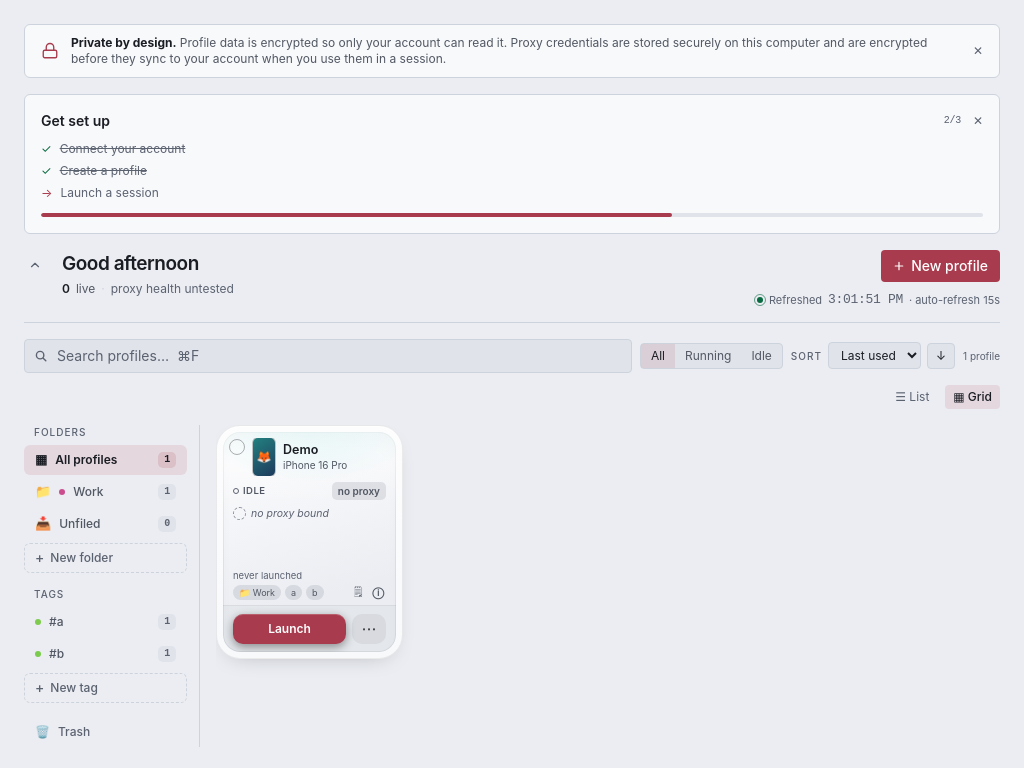
Scenario: ProfilesView profile-lifecycle actions › Storage + Trim › surfaces an informative (non-error) notice when there is nothing to trim (status unavailable)
Click the button named "More actions": (369, 628) [352,614,386,644]
(page scrolled)
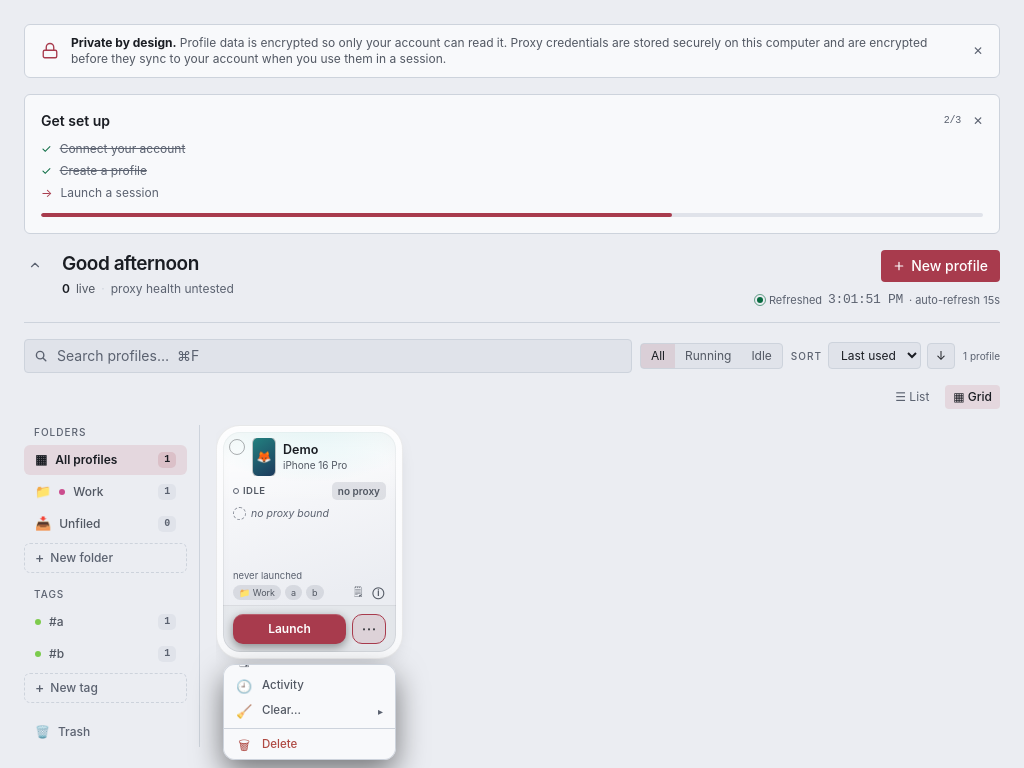
Click the button with aria-label "Clearing options for ": (310, 711) [224,698,395,724]
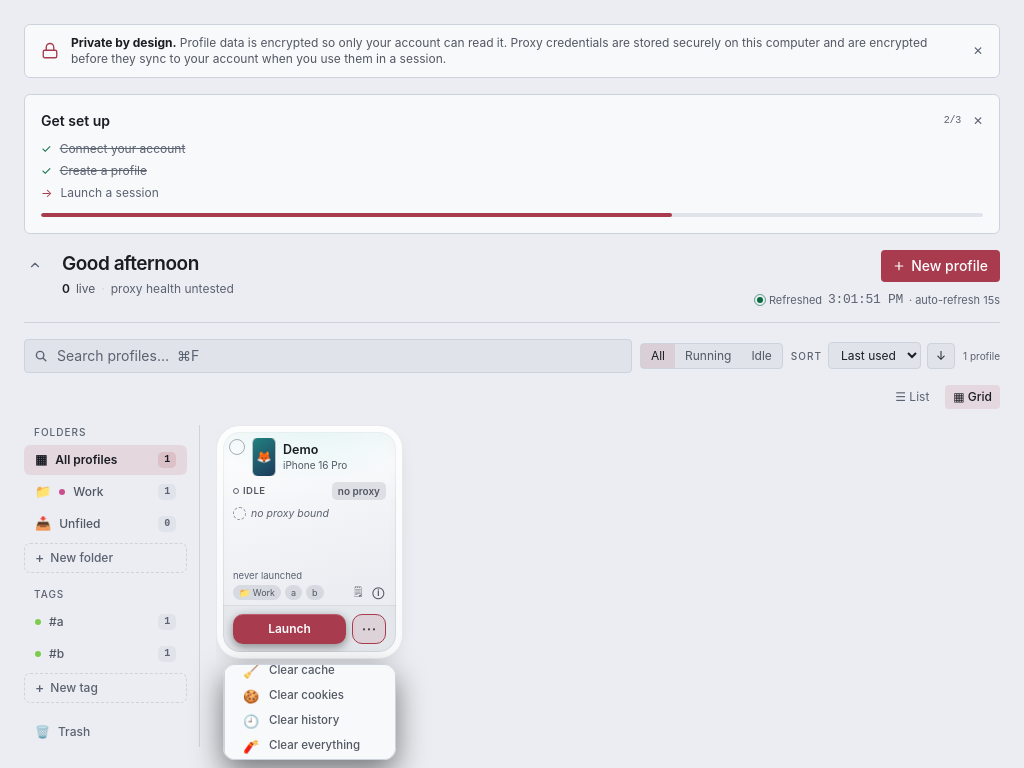
Click the button with aria-label "Clear cache for Demo": (313, 671) [231,658,395,684]
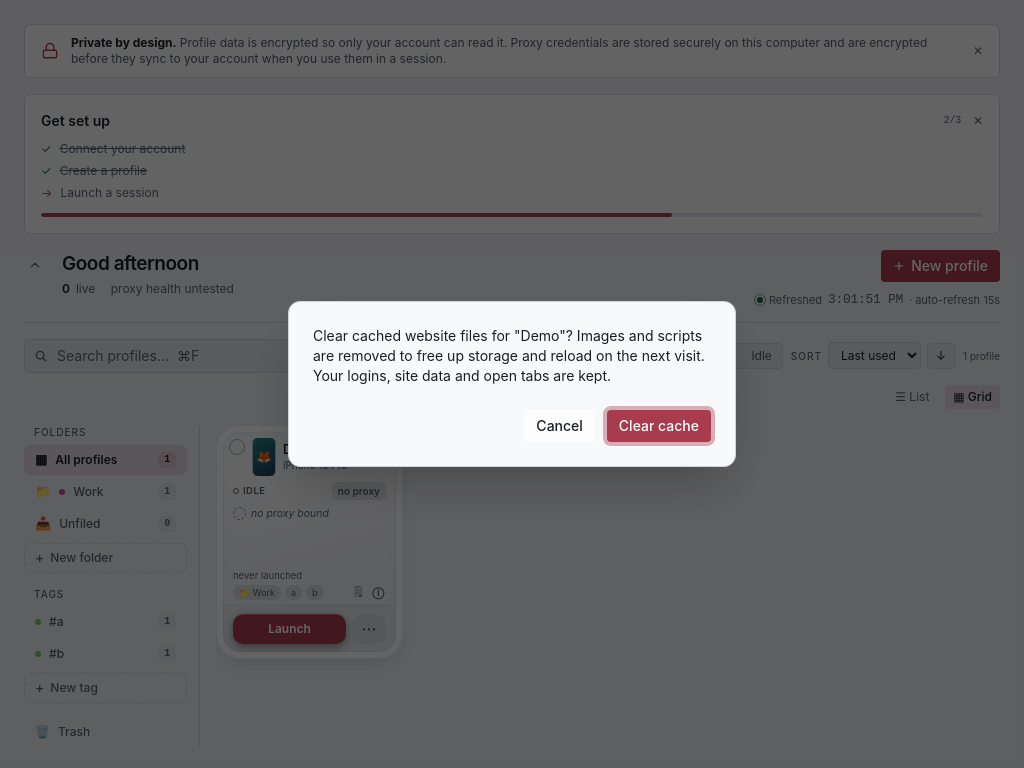
Click the button "Clear cache": (659, 426) [607,410,711,442]
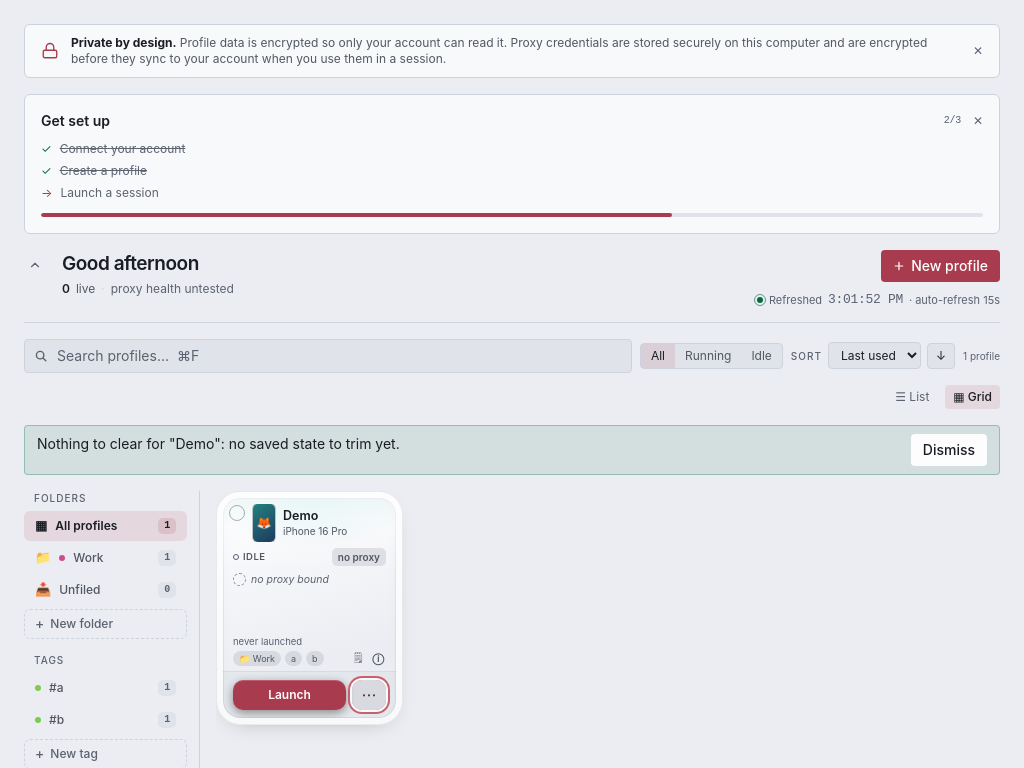
Check: the text "Nothing to clear for \"Demo\": no saved state to trim yet." is shown, box [37,434,400,454]
